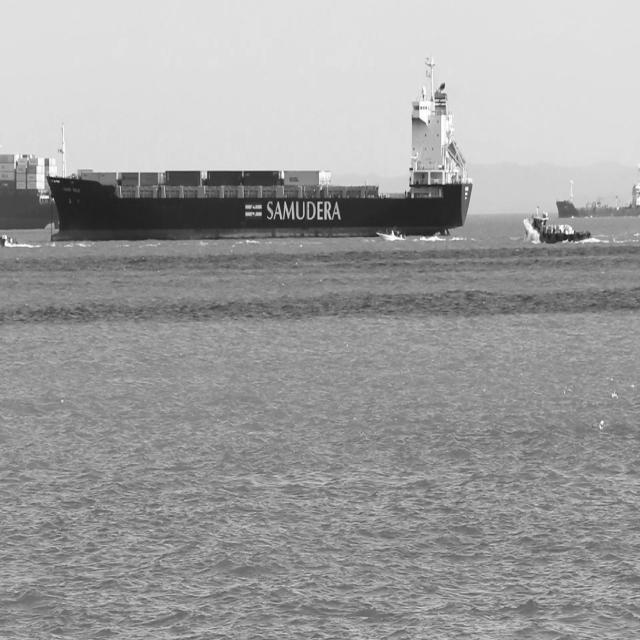ship: (49, 49, 476, 239), (0, 150, 59, 230), (555, 179, 640, 219), (523, 210, 592, 242), (376, 226, 408, 242), (0, 232, 19, 248)
